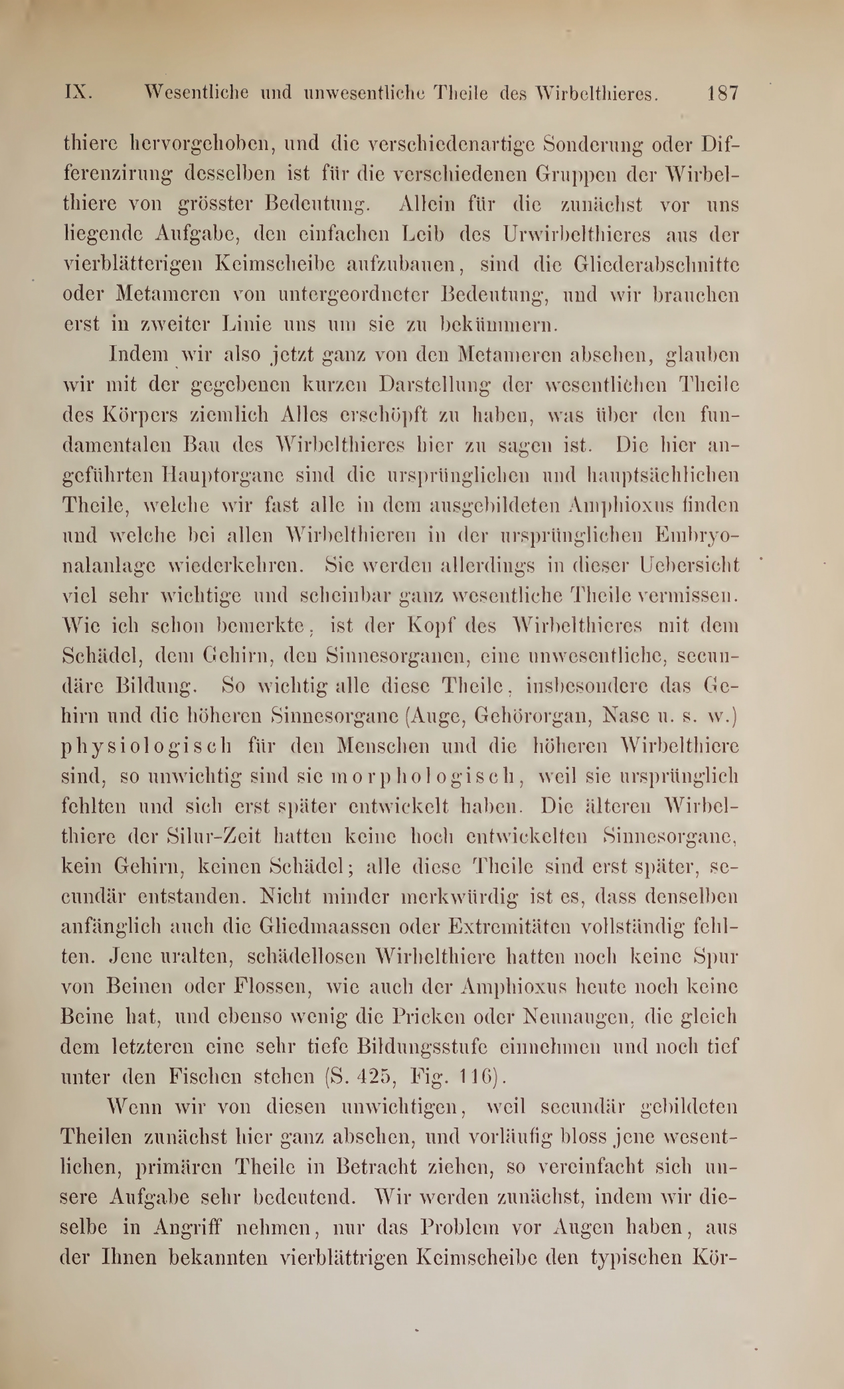MainZone: (44, 118, 770, 1281)
NumberingZone chapter: (52, 73, 109, 111)
NumberingZone_page: (696, 73, 751, 109)
RunningTitleZone: (133, 74, 670, 113)
